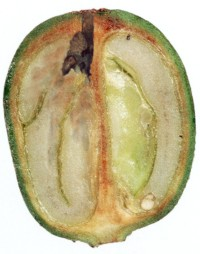broca de cafe: (24, 9, 167, 235)
